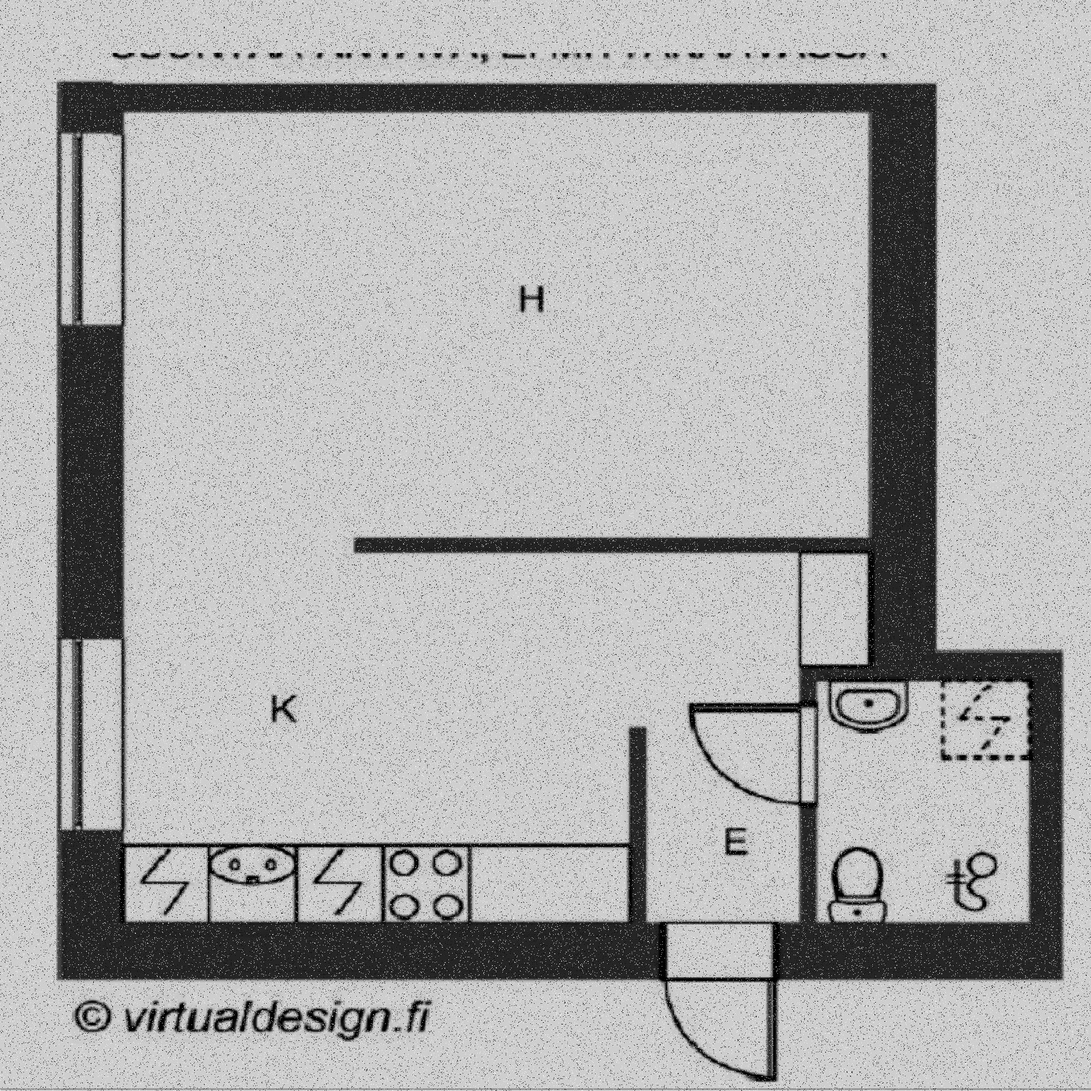wall: (54, 919, 1060, 980), (54, 82, 122, 980), (869, 82, 936, 678), (54, 82, 936, 111), (1026, 650, 1060, 980), (352, 535, 936, 551), (798, 663, 815, 980), (869, 650, 1060, 678), (630, 727, 647, 980), (798, 663, 869, 678)
